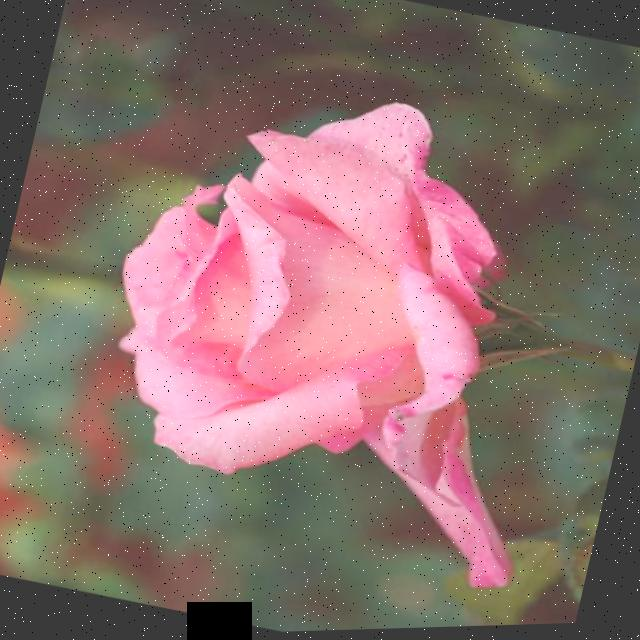rose: (2, 5, 640, 640)
